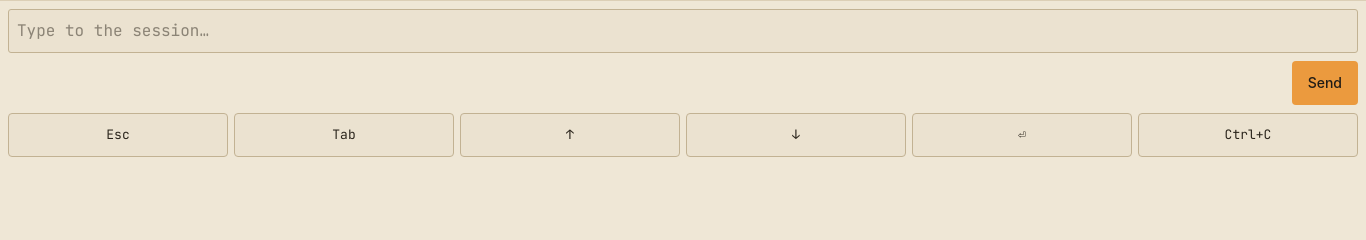
Test: TerminalKeys — the offline queue (WP-13) › Edit puts a held message back in the field
Type "change me" into the text box labelled "Type to the session" at (683, 31), box [8,9,1358,53]
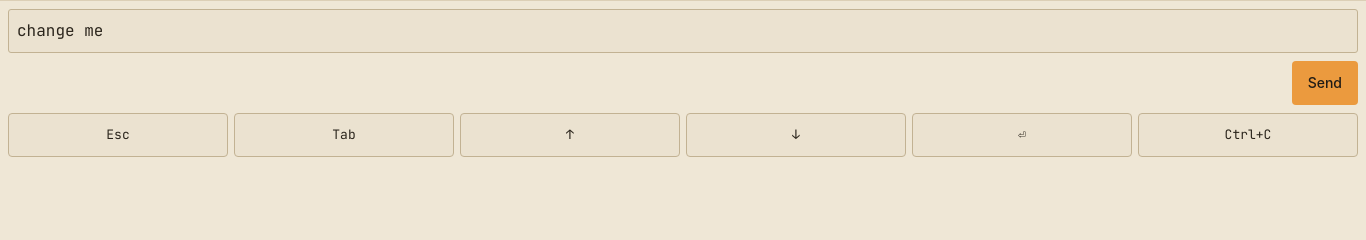
Click the button "Send" at (1325, 83), box [1292,61,1358,105]
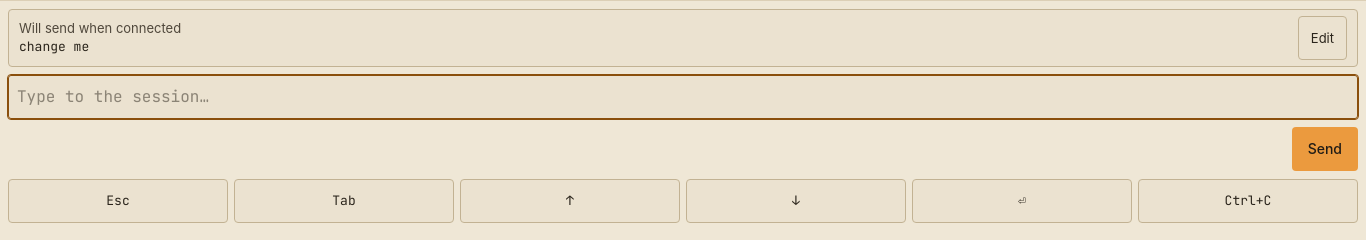
Click the button with aria-label "Edit the message: change me" at (1322, 38), box [1298,16,1347,60]
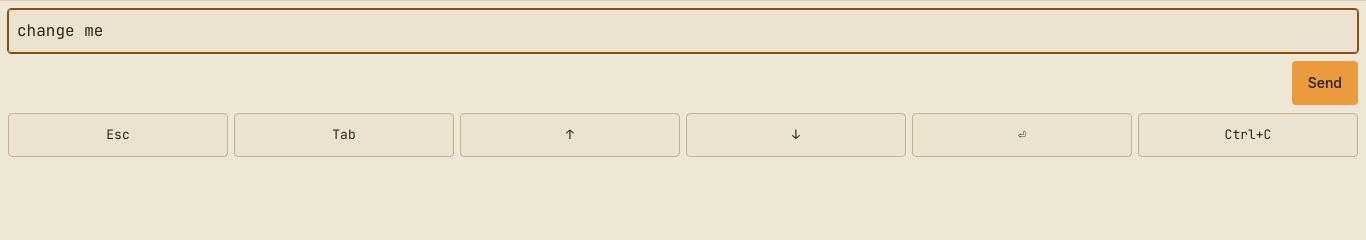
Check: the text "Will send when connected" is gone
